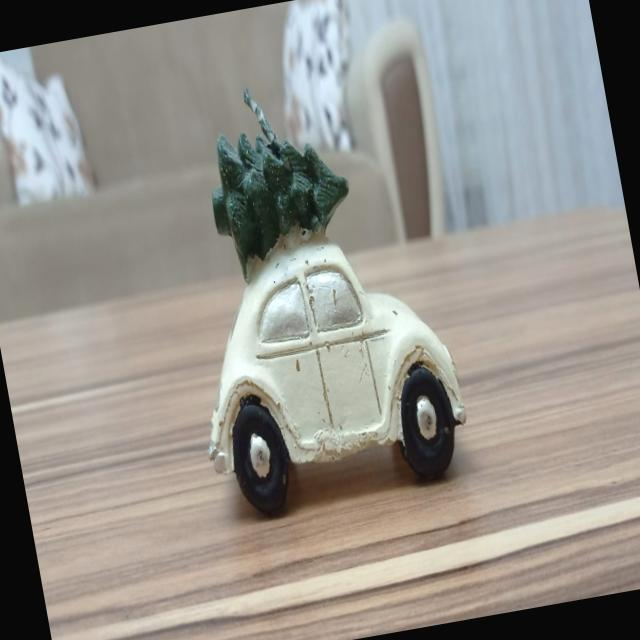car: (165, 217, 479, 518)
